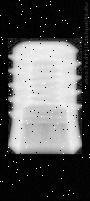AGS Medikal: (8, 38, 82, 154)
